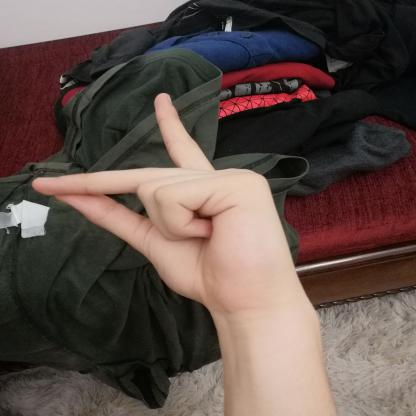TAA: (20, 82, 318, 321)
